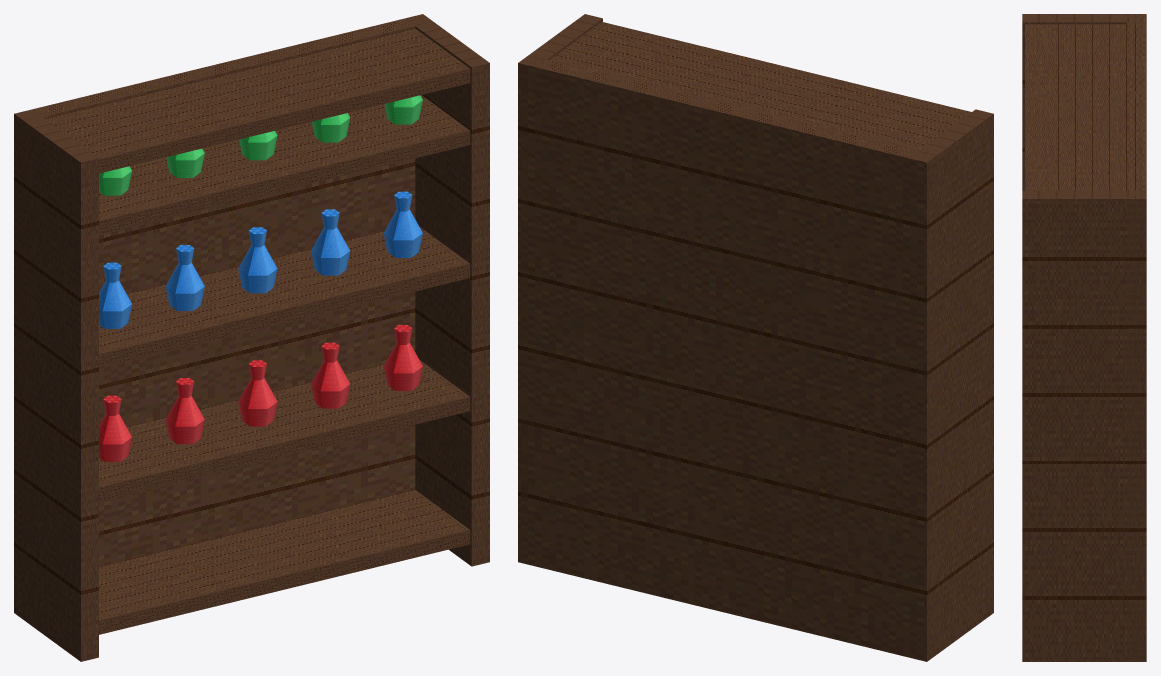
The model's file is prateleira_de_pocoes.glb.
3 renders of one model, left to right at view 1: azimuth 30°, elevation 25°; view 2: azimuth 150°, elevation 25°; view 3: azimuth 270°, elevation 25°, orthographic. The views are drawn at different scales.
Visible parts, largest first — view 1: prateleira_de_pocoes; view 2: prateleira_de_pocoes; view 3: prateleira_de_pocoes.
Part boxes in pixels (bbox=[...]): prateleira_de_pocoes: bbox=[14, 14, 489, 661]; prateleira_de_pocoes: bbox=[518, 14, 993, 661]; prateleira_de_pocoes: bbox=[1022, 14, 1146, 661].
Size of the model in its own units: 1.8 by 2.1 by 0.51.
1 material, 1 textured.
